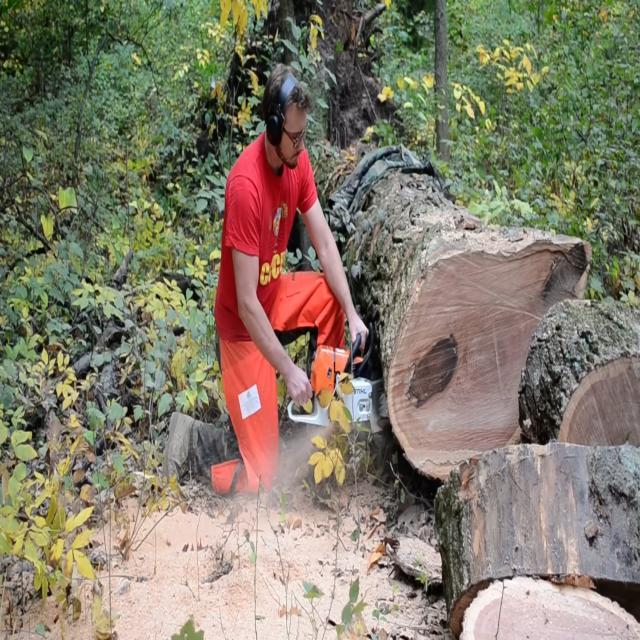Chainsaw: (263, 308, 405, 445)
